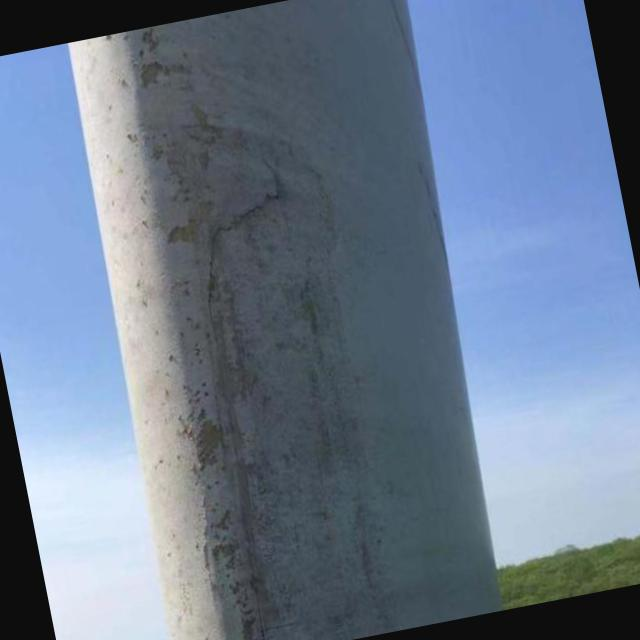corrosion: (65, 13, 380, 640)
